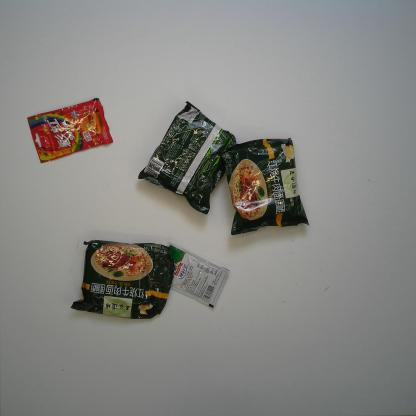Candy: (27, 97, 114, 164)
Instant Noodles: (136, 101, 236, 215), (218, 138, 310, 236), (70, 239, 175, 320)
Seasoner: (161, 240, 230, 309)
